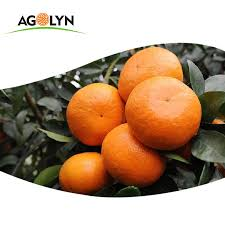orange: (126, 75, 202, 149), (99, 124, 165, 184), (64, 81, 123, 146), (116, 45, 184, 100), (58, 151, 106, 191)
